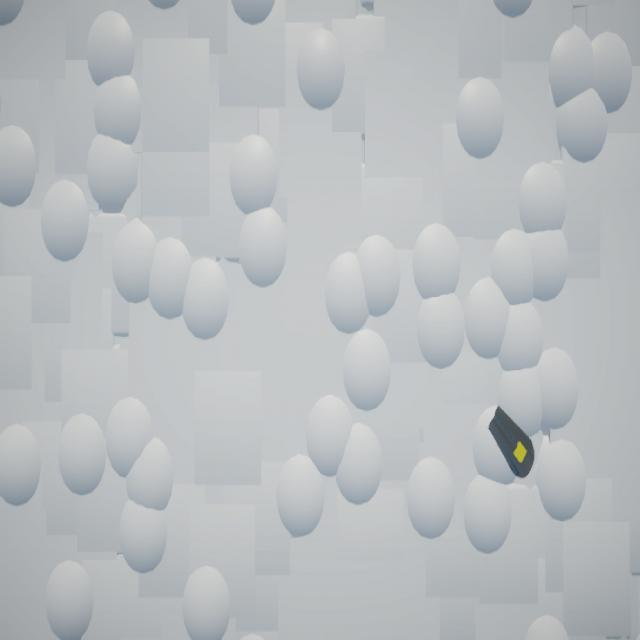handle_folk: (489, 407, 535, 480)
